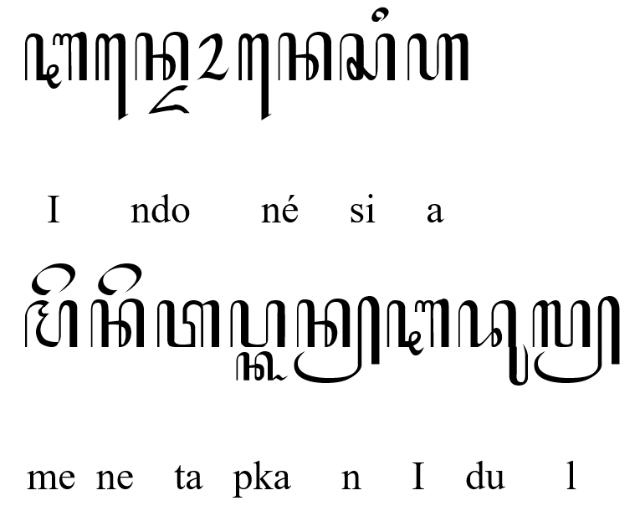-l: (532, 296, 620, 385)
-n: (294, 294, 381, 384)
I: (24, 30, 88, 90), (386, 296, 450, 356)
_d: (148, 84, 190, 114)
_k: (236, 350, 288, 382)
du: (457, 298, 529, 388)
e: (30, 262, 76, 296), (96, 262, 142, 296)
e1: (237, 32, 271, 120), (95, 32, 128, 121)
h: (406, 32, 470, 82)
i: (371, 7, 389, 23)
m: (24, 299, 80, 349)
n: (90, 298, 146, 350), (134, 32, 190, 82), (278, 32, 332, 82)
o: (197, 32, 230, 82)
p: (228, 300, 286, 348)
s: (339, 32, 396, 82)
t: (156, 299, 220, 349)
